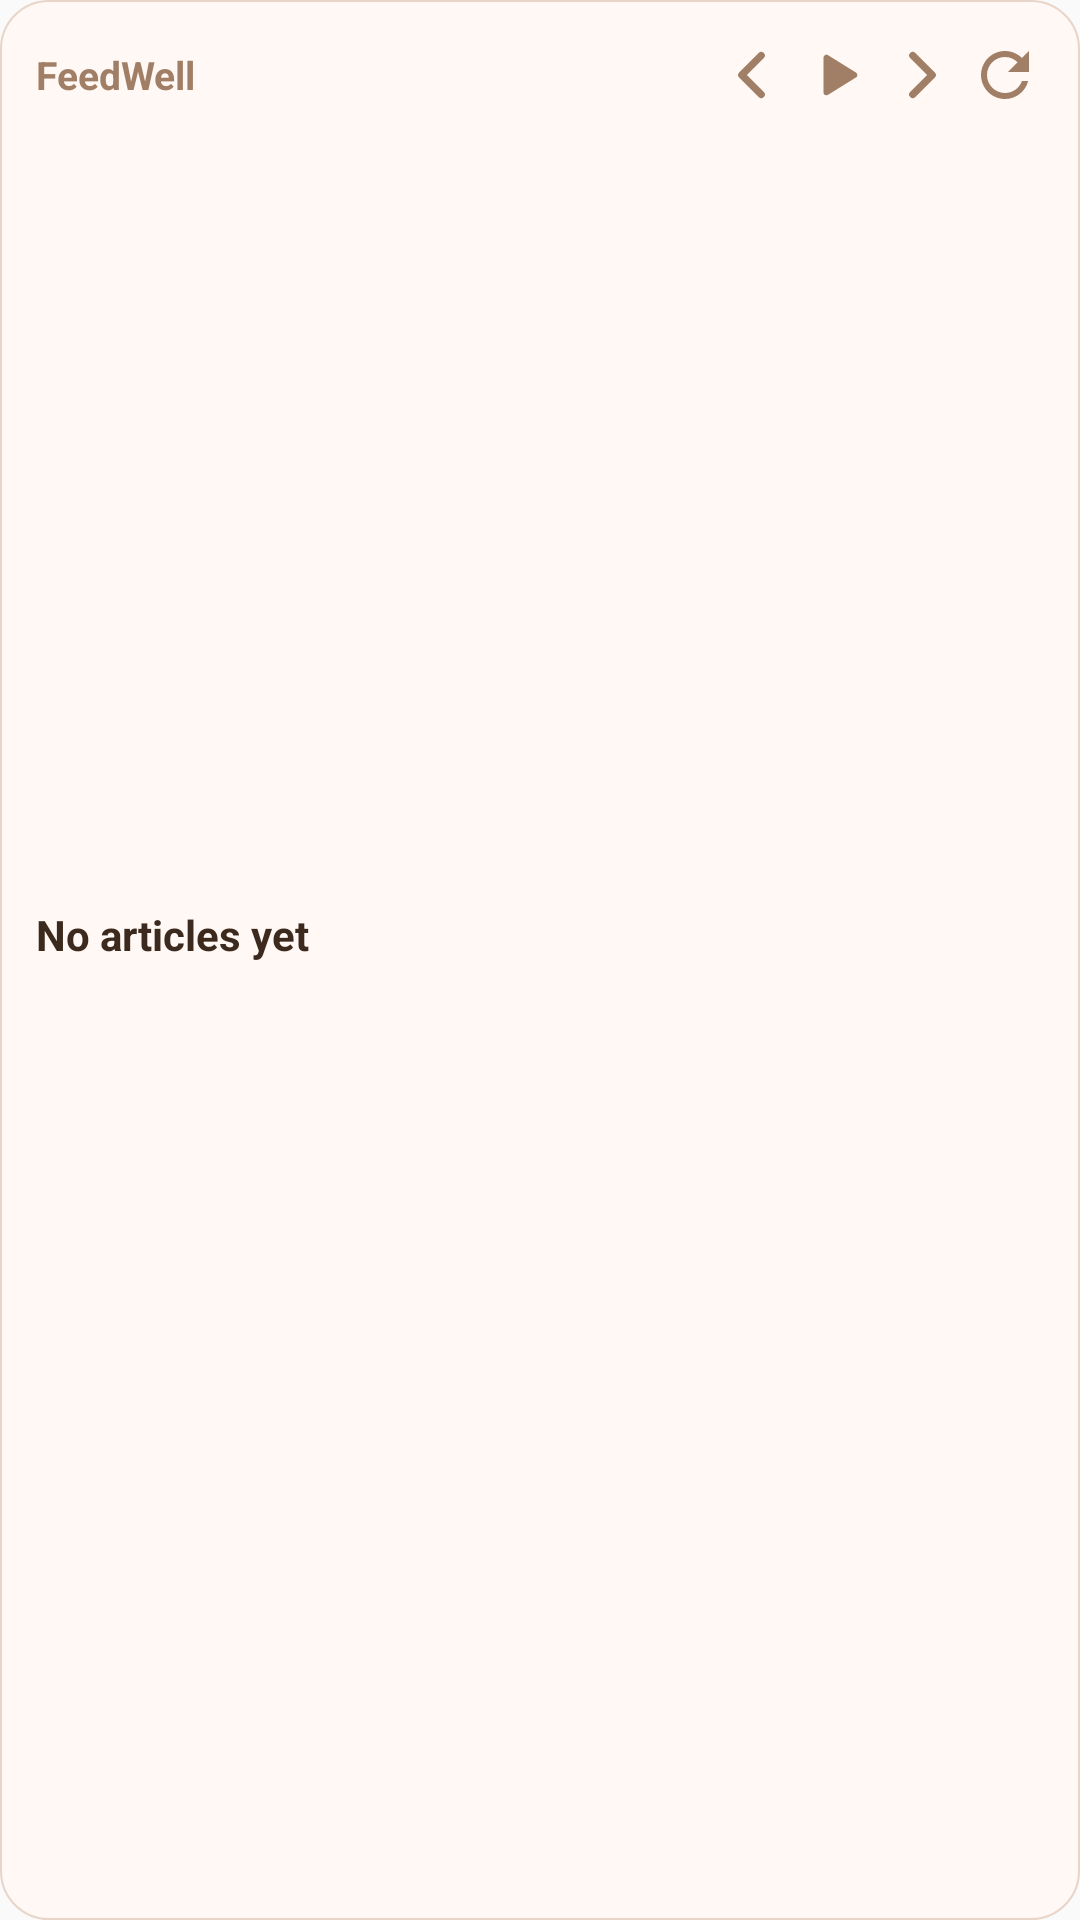

Screen size 1080 x 1920. Icon name, then its box in pixels as (x1=x1, y1=y1, x2=x2, y2=y2):
Next article: (x1=909, y1=51, x2=936, y2=99)
Play slideshow: (x1=823, y1=54, x2=858, y2=96)
Previous article: (x1=738, y1=51, x2=765, y2=99)
Refresh: (x1=981, y1=51, x2=1029, y2=99)
